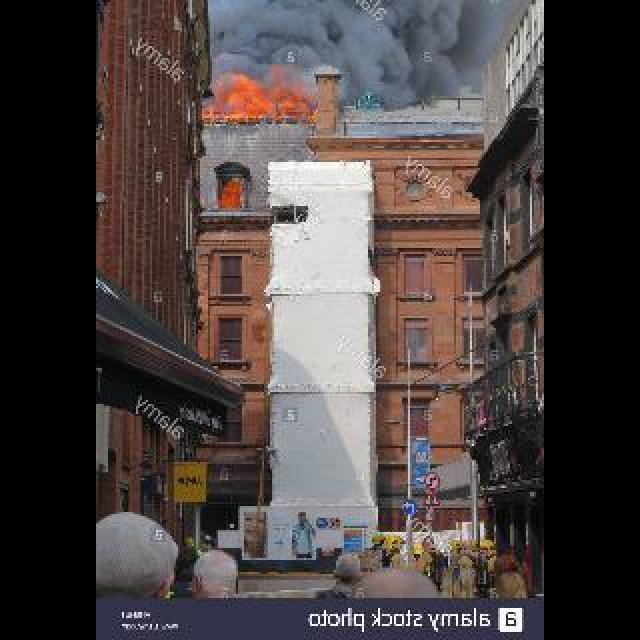Fire: (204, 70, 320, 122)
Smoke: (214, 2, 476, 72)
